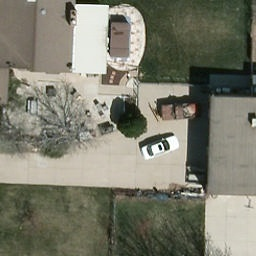car: (138, 136, 180, 159)
pickup: (160, 102, 206, 121)
